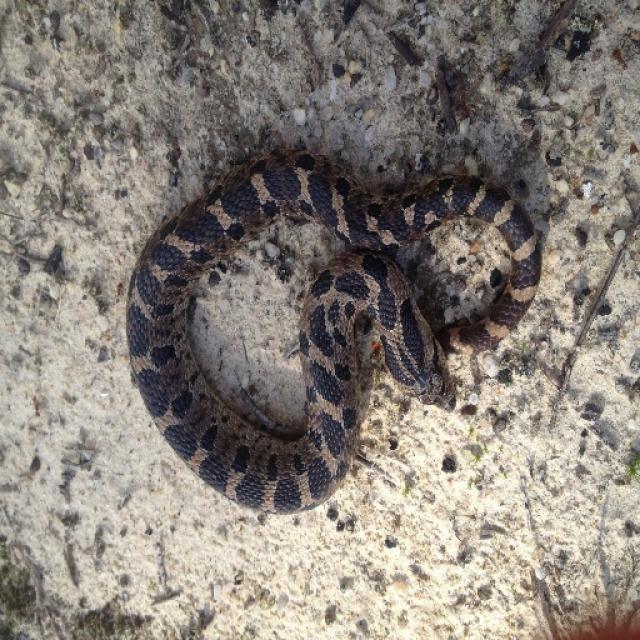snake: (121, 140, 563, 518)
